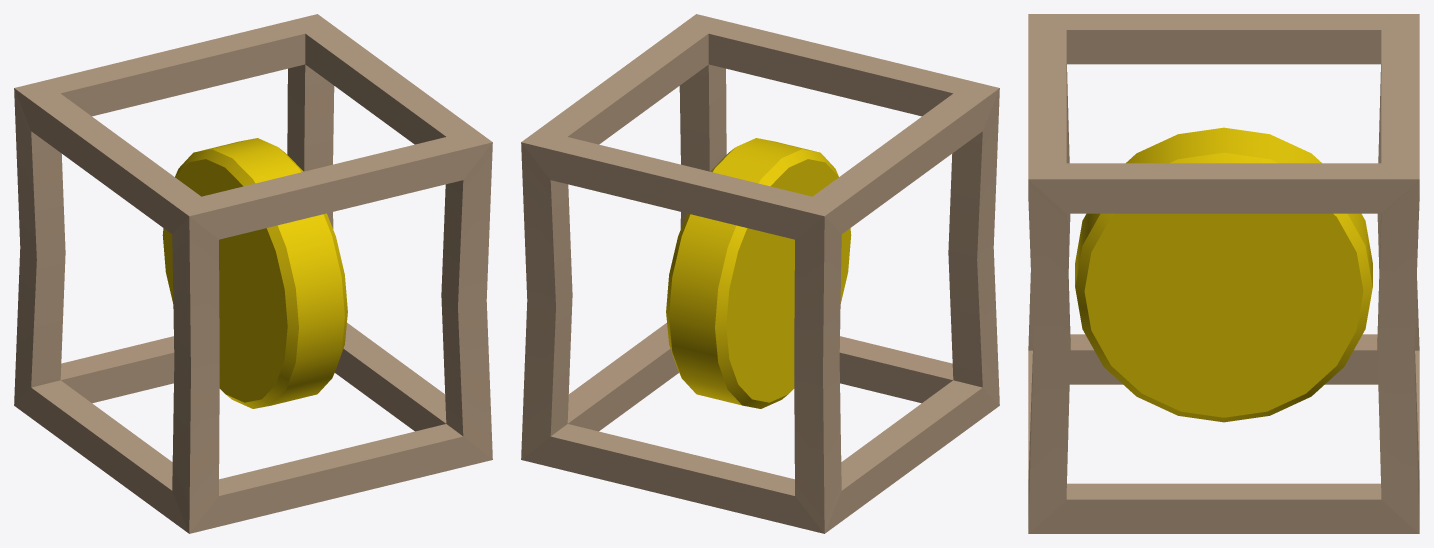
3 renders of one model, left to right at view 1: azimuth 30°, elevation 25°; view 2: azimuth 150°, elevation 25°; view 3: azimuth 270°, elevation 25°, orthographic. The views are drawn at different scales.
Parts seen in each view (by area): view 1: mukuang, gold_coin; view 2: mukuang, gold_coin; view 3: mukuang, gold_coin.
Part boxes in pixels (<box>): mukuang: <box>14,14,492,533</box>; gold_coin: <box>162,138,347,408</box>; mukuang: <box>521,14,999,533</box>; gold_coin: <box>666,138,851,408</box>; mukuang: <box>1028,14,1419,533</box>; gold_coin: <box>1075,127,1372,422</box>.
Bounding box in the file's own units: 1 × 1 × 1.
